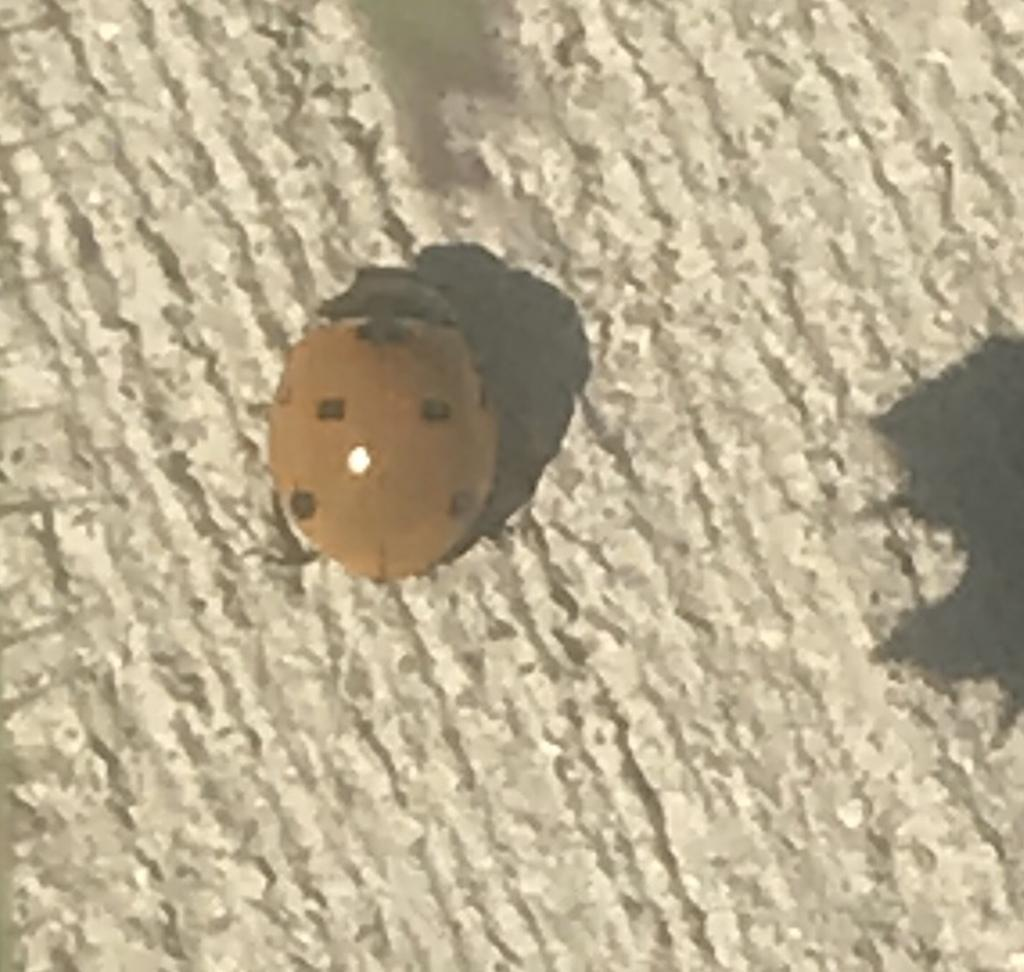ladybug: (266, 261, 506, 589)
